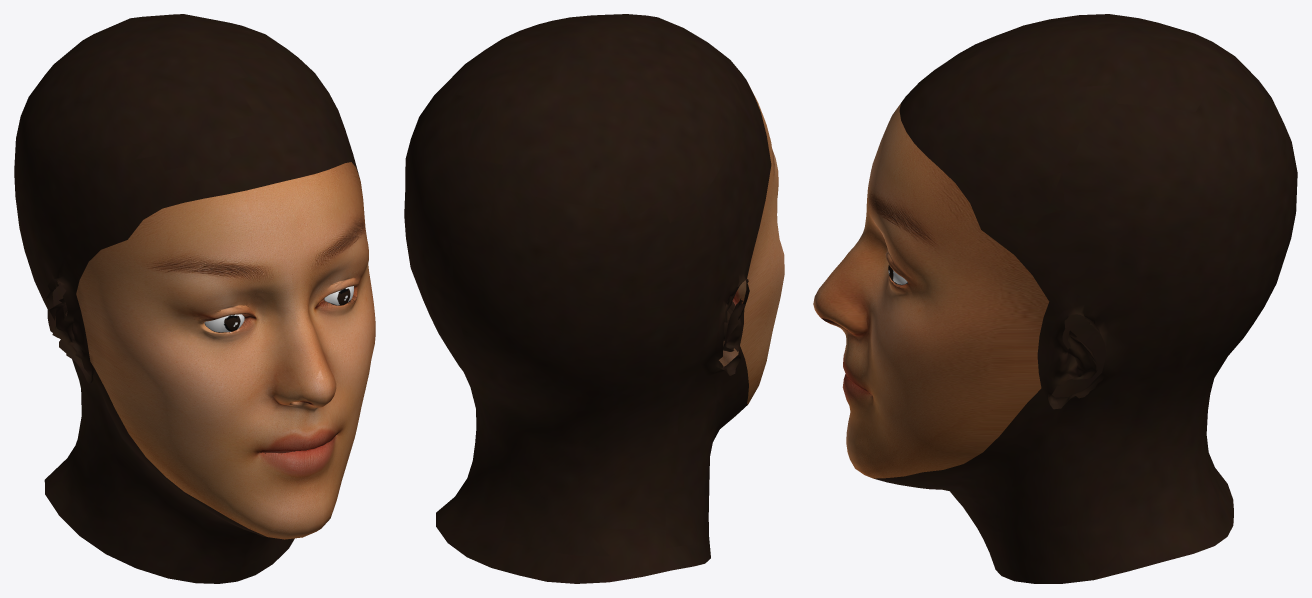
The model's file is raccoon_head.glb.
The picture shows the model from 3 angles, left to right: view 1: azimuth 30°, elevation 25°; view 2: azimuth 150°, elevation 25°; view 3: azimuth 270°, elevation 25°; orthographic projection. The views are drawn at different scales.
Parts seen in each view (by area): view 1: mesh_000001; view 2: mesh_000001; view 3: mesh_000001.
Part boxes in pixels (x1=…): mesh_000001: x1=14, y1=14, x2=375, y2=583; mesh_000001: x1=404, y1=14, x2=784, y2=583; mesh_000001: x1=813, y1=14, x2=1297, y2=583.
Size of the model in its own units: 0.5269 by 0.9118 by 0.7527.
Materials: 1 (1 with a texture image).
